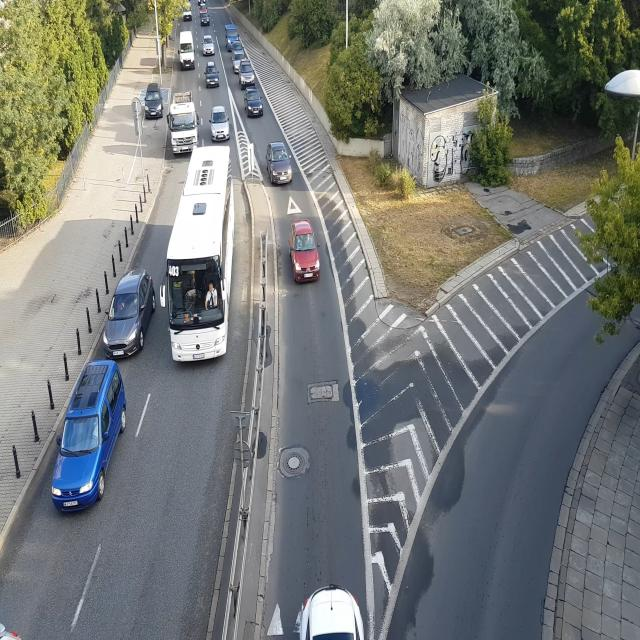bus: (161, 153, 243, 370)
car: (40, 362, 128, 518), (96, 272, 156, 355), (298, 579, 368, 640), (287, 222, 320, 282), (265, 144, 292, 188), (210, 106, 230, 142), (241, 87, 264, 117), (144, 89, 166, 118), (180, 30, 193, 65), (204, 62, 220, 88), (223, 20, 238, 46), (239, 65, 256, 86), (181, 1, 194, 21), (201, 34, 214, 52), (233, 53, 243, 72), (232, 40, 245, 54), (199, 10, 208, 22)
truck: (170, 86, 199, 156)
